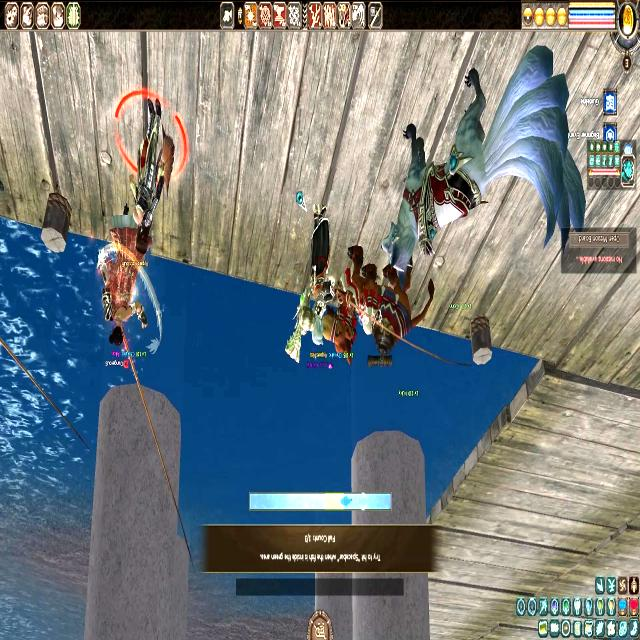fishes: (340, 494, 353, 508)
